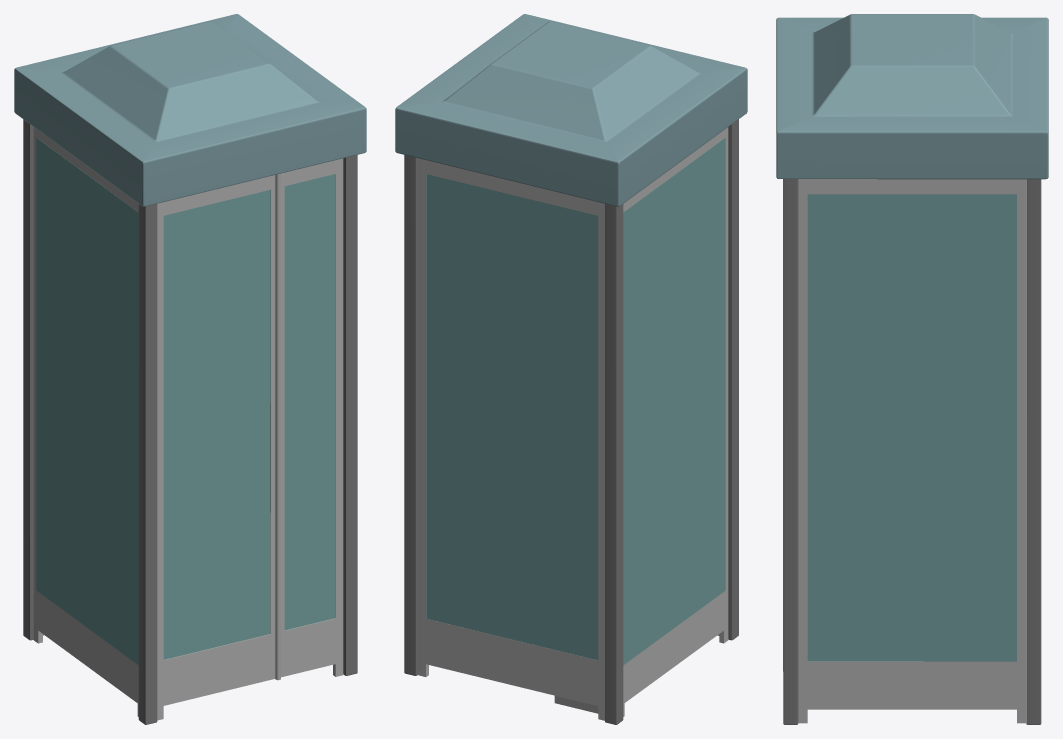
Rendered from PublicTelephone_Set.fbx.
The picture shows the model from 3 angles, left to right: view 1: azimuth 30°, elevation 25°; view 2: azimuth 150°, elevation 25°; view 3: azimuth 270°, elevation 25°; orthographic projection. The views are drawn at different scales.
Visible parts, largest first — view 1: PublicTelephoneSet; view 2: PublicTelephoneSet; view 3: PublicTelephoneSet.
Part boxes in pixels (x1=…): PublicTelephoneSet: x1=14, y1=14, x2=366, y2=724; PublicTelephoneSet: x1=395, y1=14, x2=747, y2=724; PublicTelephoneSet: x1=776, y1=14, x2=1048, y2=724.
Bounding box in the file's own units: 89.64 × 229 × 89.64.
